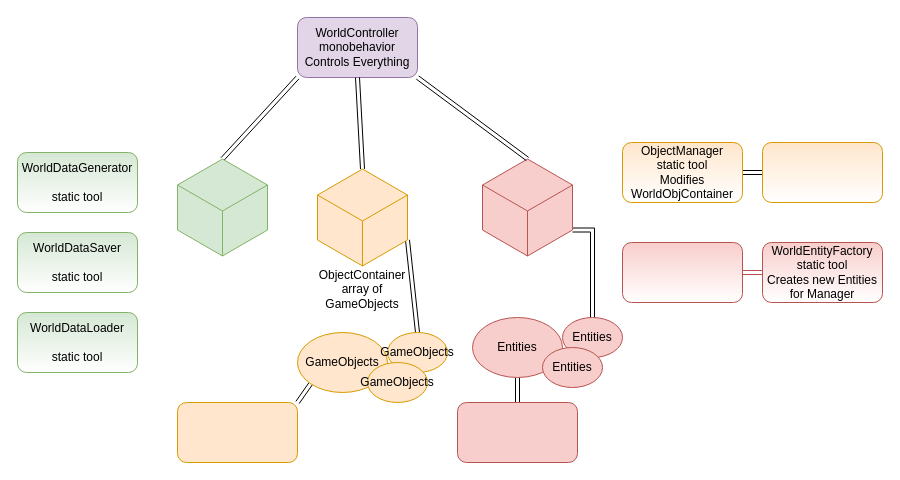
Image size: 900x480. Some labels were removed from this diagram. The centre of each missing label's shape, as x and y in pixels:
EntityData monobehavior Stores ID, Container Ref: the point at 517,432
ObjectData monobehavior Stores ID, Container Ref, and position: the point at 237,432
ObjectFactory static tool Creates new Objects for Manager: the point at 822,172
WorldDataContainer array of Tile.IDs: the point at 222,207
WorldEntityContainer array of Entities: the point at 527,207
WorldEntityManager static tool Modifies WorldEntityContainer: the point at 682,272
